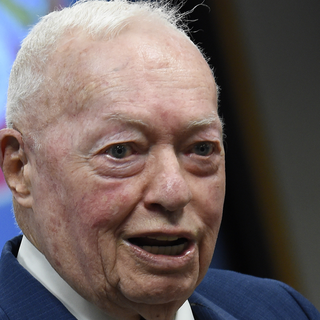eye: (96, 139, 144, 165), (177, 138, 217, 163)
